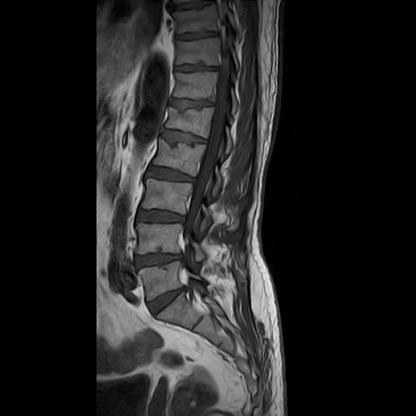Annular Disc Relaxationrotation: (146, 165, 197, 186), (159, 130, 207, 149)
Disc Bulgerotation: (136, 250, 185, 271), (146, 290, 189, 312)
